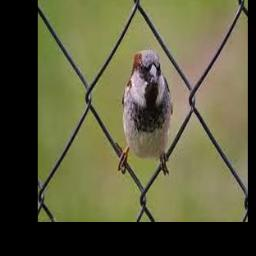Sparrow: (121, 49, 172, 162)
